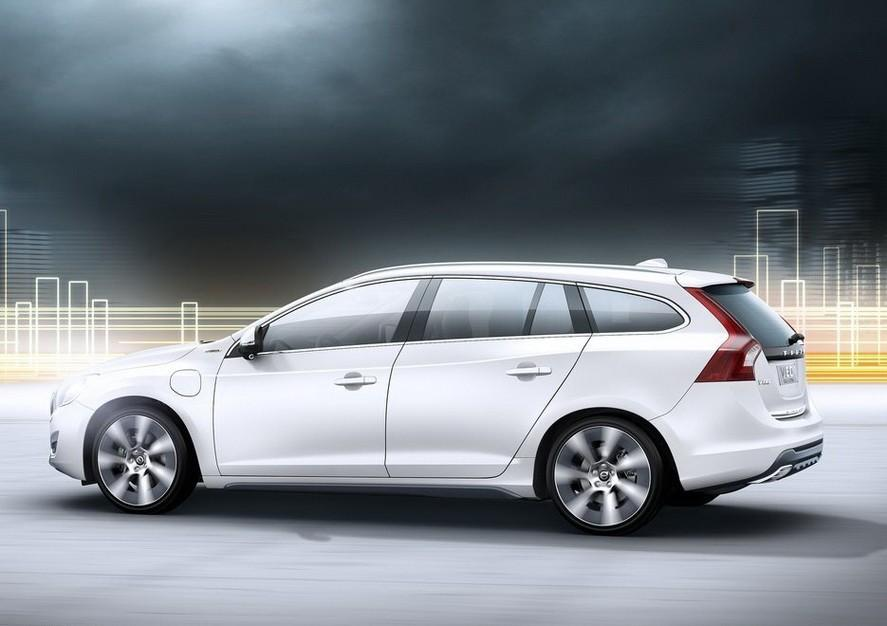Wagon: (48, 260, 824, 537)
